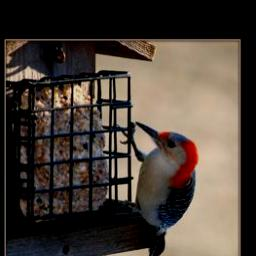Woodpecker: (117, 121, 198, 256)
